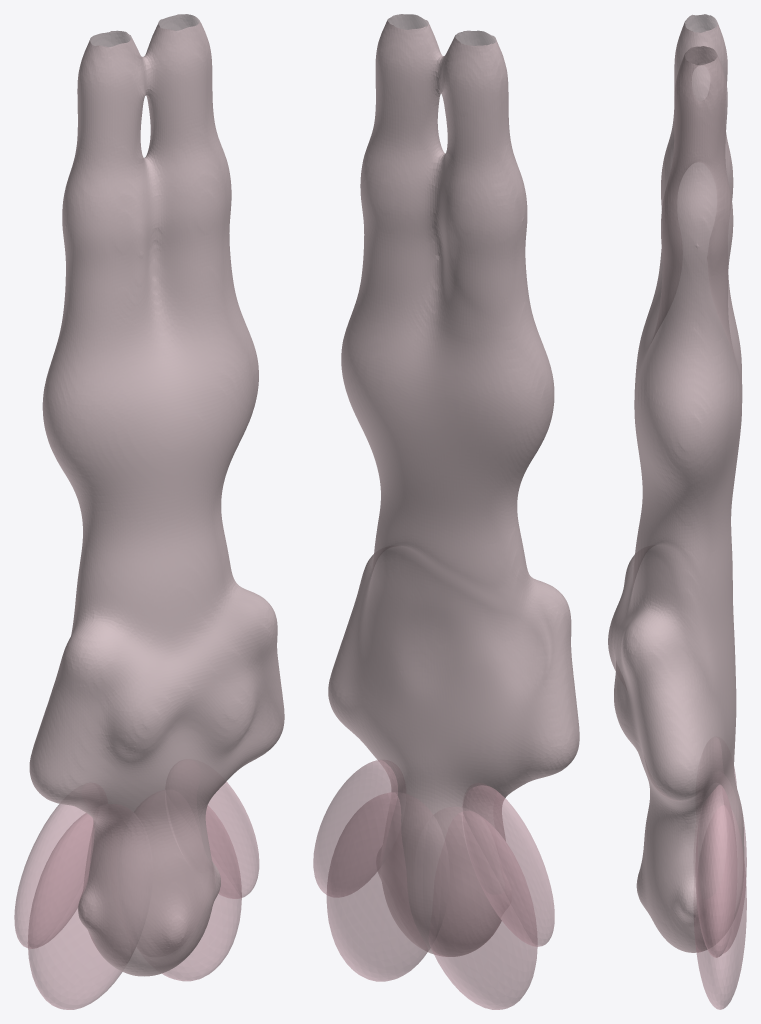
Rendered from Figur_Die_Gedanken_sind_frei_AR_V2_natural.glb.
3 renders of one model, left to right at view 1: azimuth 30°, elevation 25°; view 2: azimuth 150°, elevation 25°; view 3: azimuth 270°, elevation 25°, orthographic. The views are drawn at different scales.
Visible parts, largest first — view 1: Natural_Figure, Hair_0, Hair_2, Hair_1, Hair_3; view 2: Natural_Figure, Hair_0, Hair_1, Hair_2, Hair_3; view 3: Natural_Figure, Hair_1, Hair_3, Hair_0.
Boxes of the visible parts, x1=… form: Natural_Figure: x1=29, y1=14, x2=284, y2=976; Hair_0: x1=28, y1=804, x2=143, y2=1009; Hair_2: x1=14, y1=783, x2=107, y2=948; Hair_1: x1=134, y1=791, x2=241, y2=981; Hair_3: x1=165, y1=778, x2=259, y2=898; Natural_Figure: x1=328, y1=14, x2=579, y2=956; Hair_0: x1=423, y1=807, x2=537, y2=1009; Hair_1: x1=326, y1=792, x2=432, y2=981; Hair_2: x1=462, y1=783, x2=554, y2=946; Hair_3: x1=313, y1=760, x2=405, y2=897; Natural_Figure: x1=608, y1=14, x2=744, y2=952; Hair_1: x1=694, y1=805, x2=746, y2=1009; Hair_3: x1=695, y1=783, x2=737, y2=957; Hair_0: x1=694, y1=815, x2=746, y2=953.
Bounding box in the file's own units: 0.7227 × 2.71 × 0.3636.
